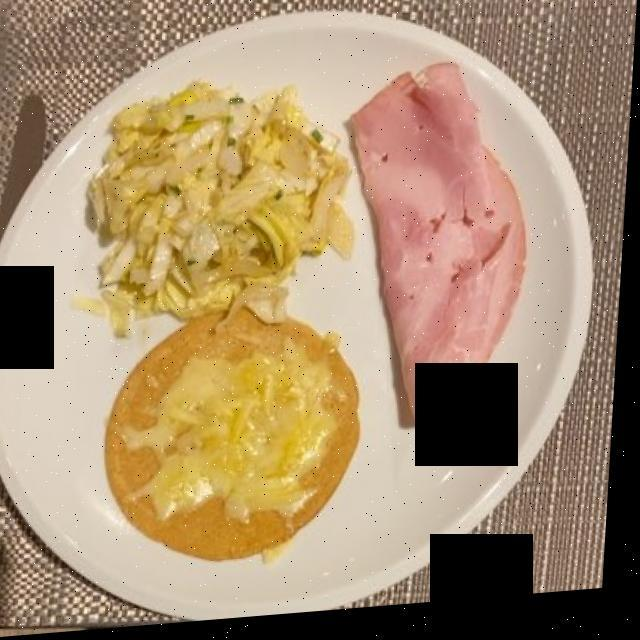cheese: (167, 353, 333, 521)
crepe: (103, 318, 376, 569)
ham: (352, 73, 527, 423)
salad: (102, 103, 358, 317)
